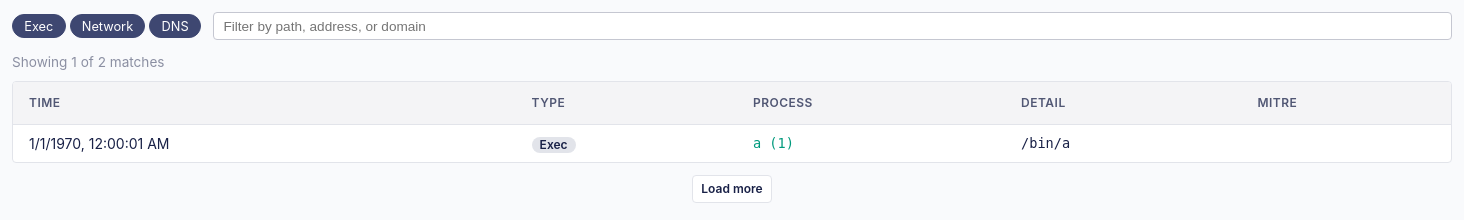
Test case: HostTimeline › appends the next page on load more
Expected: the text "Showing 1 of 2 matches" is shown, [12,54,164,70]
Click the button "Load more".
click(732, 189)  # box [692,175,772,203]
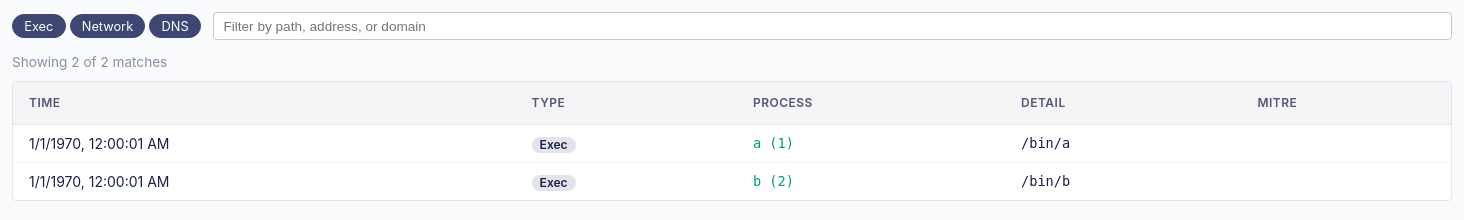
Expected: the text "Showing 2 of 2 matches" is shown, [12,54,167,70]
